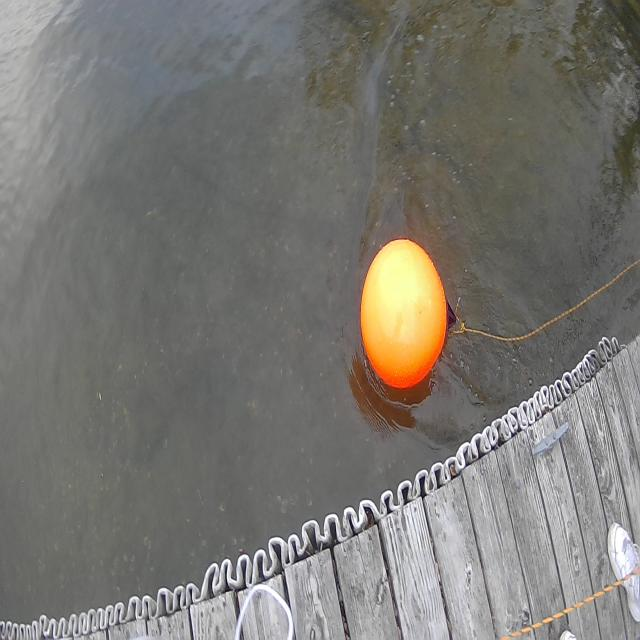Buoy: (355, 229, 457, 408)
